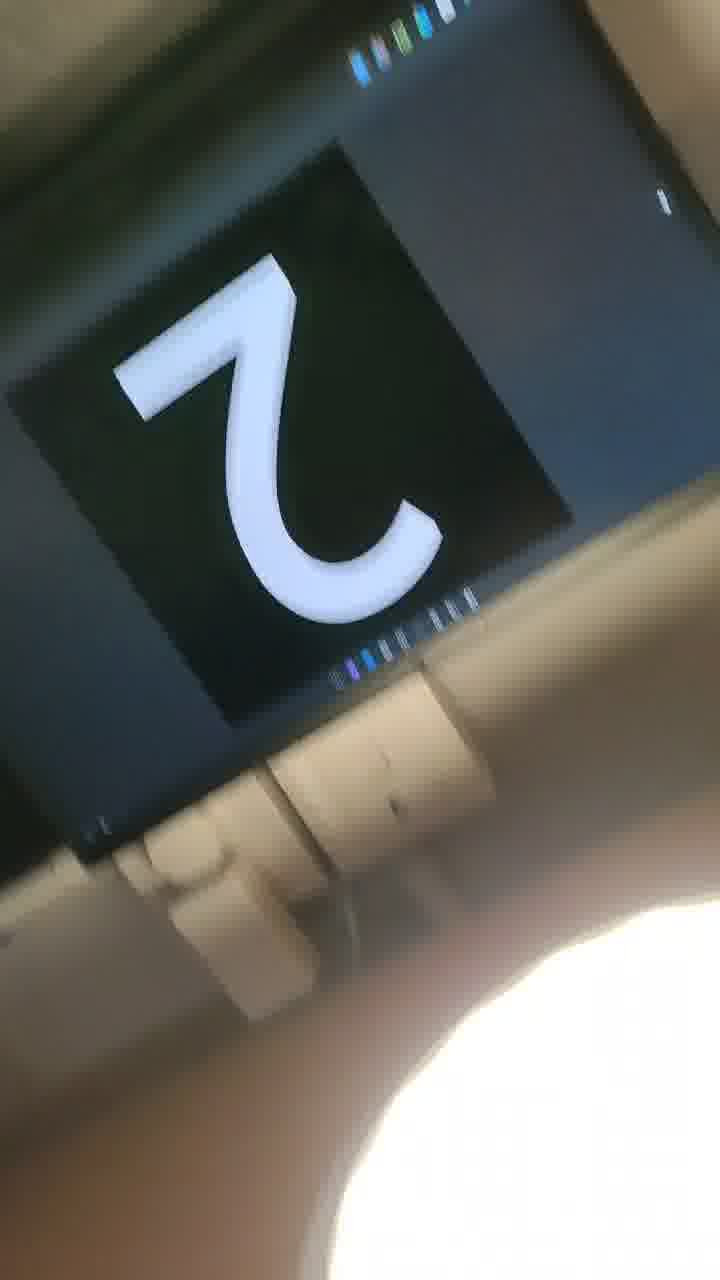two: (76, 209, 515, 642)
